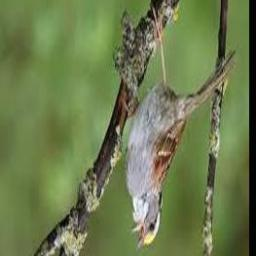Sparrow: (125, 1, 236, 252)
